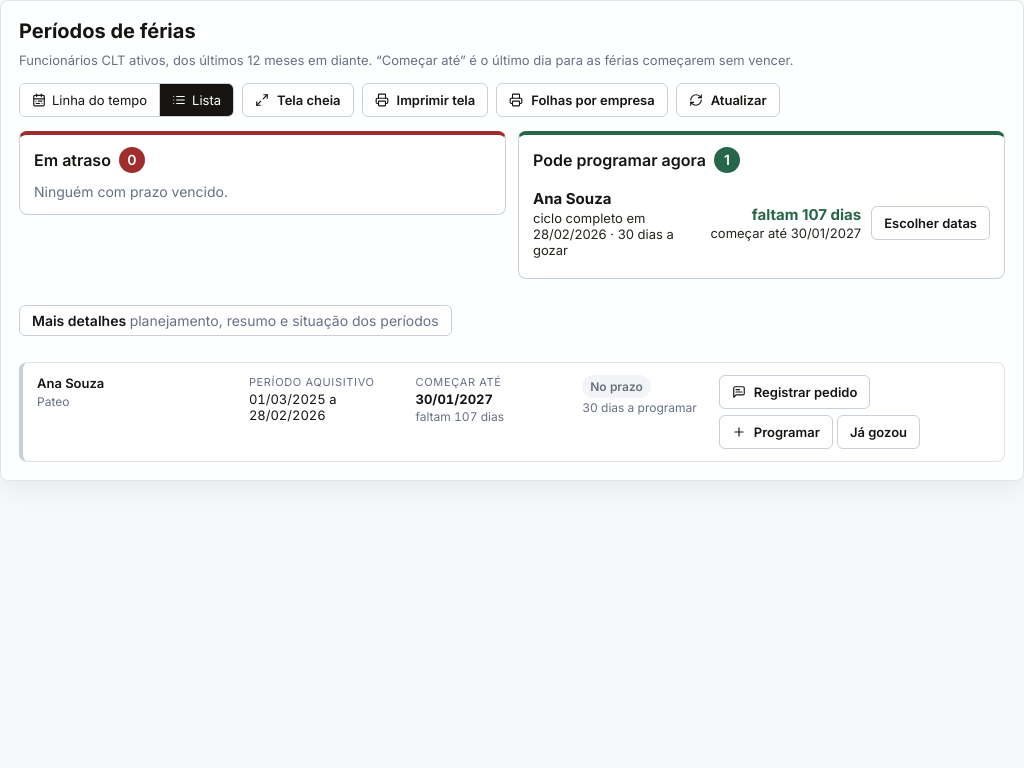
Test: Ferias › o topo separa o atraso de quem já pode ter as férias programadas, e Escolher datas abre o formulário
Expected: the text "começar até 30/01/2027" is shown, x1=710 y1=225 x2=861 y2=241
Expected: the text "Ninguém com prazo vencido." is shown, x1=34 y1=182 x2=228 y2=200
Click the button with aria-label "Escolher datas das férias de" at point(931, 223), box x1=871 y1=206 x2=990 y2=240
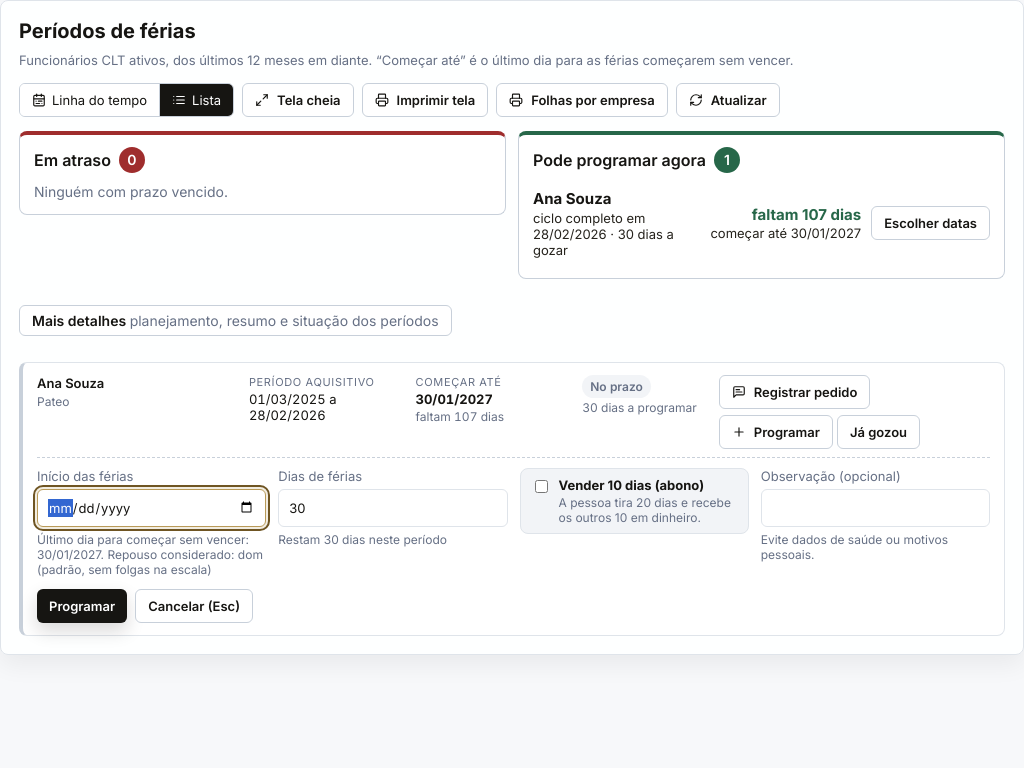
Expected: the form named "Programar férias de" is shown, x1=37 y1=468 x2=990 y2=622
